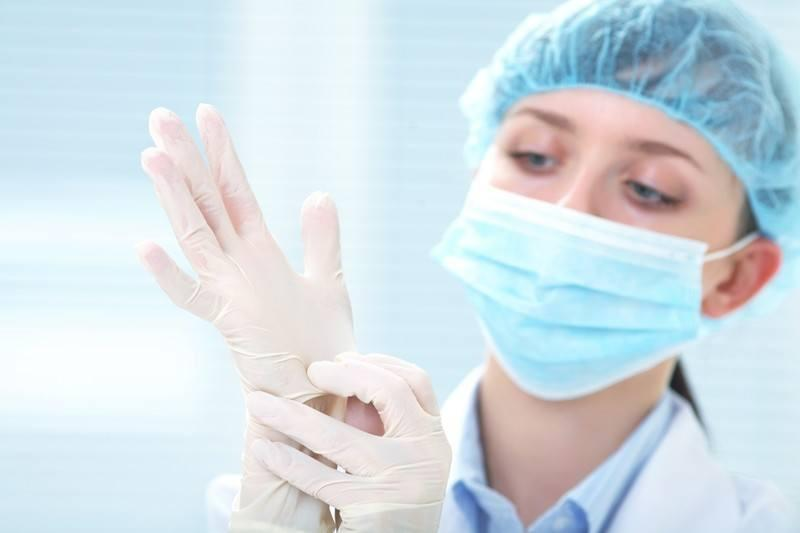gloves: (136, 104, 360, 532), (246, 350, 452, 533)
mask: (428, 175, 721, 404)
medical cap: (456, 0, 800, 228)
